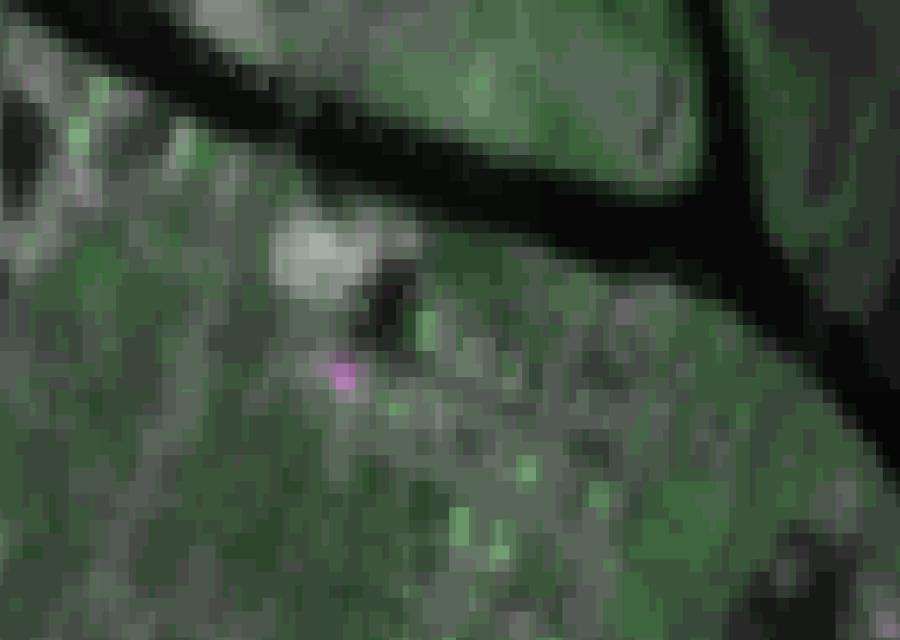Potential Lime Manufacturing Facility: (332, 358, 354, 393)
